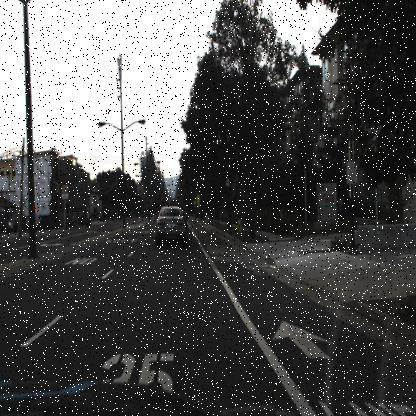car: (152, 203, 190, 248)
